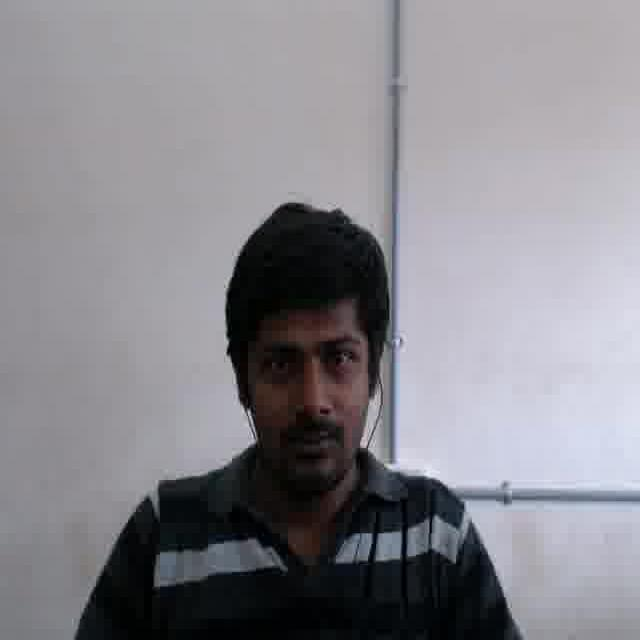Engaged: (245, 296, 364, 481)
